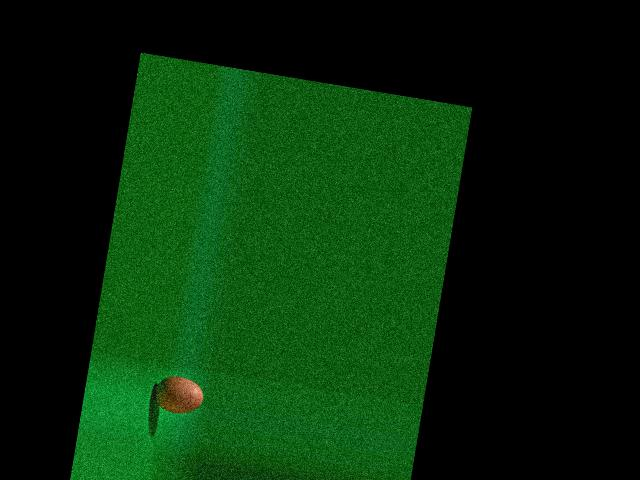egg: (151, 373, 205, 417)
